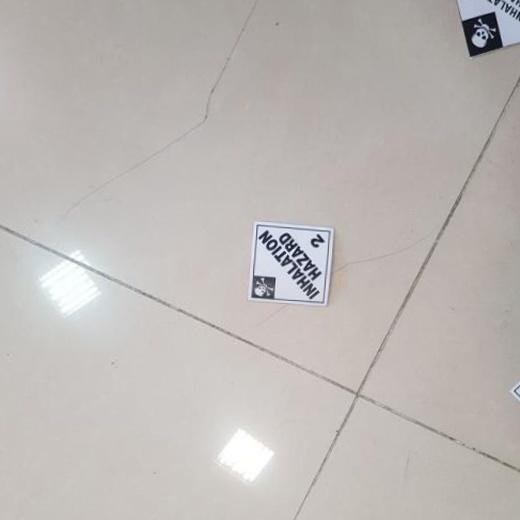poison: (246, 222, 332, 304), (450, 1, 520, 62)
